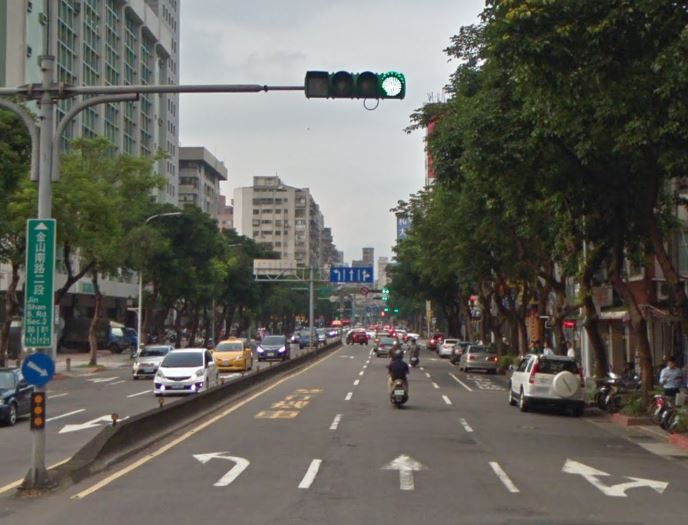Traffic_light_green: (301, 66, 411, 106)
car: (506, 350, 587, 416), (153, 346, 224, 400)
motorcycle: (386, 364, 415, 407)
